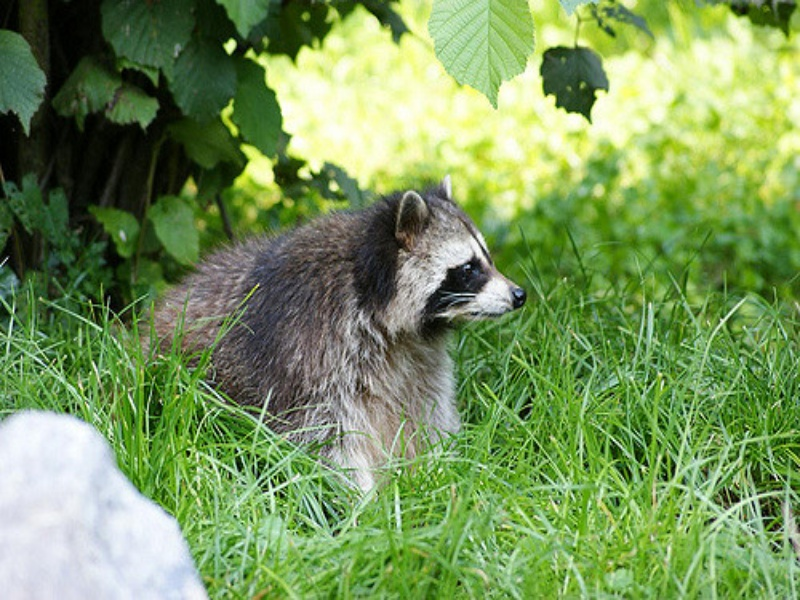raccoon: (115, 175, 539, 526)
